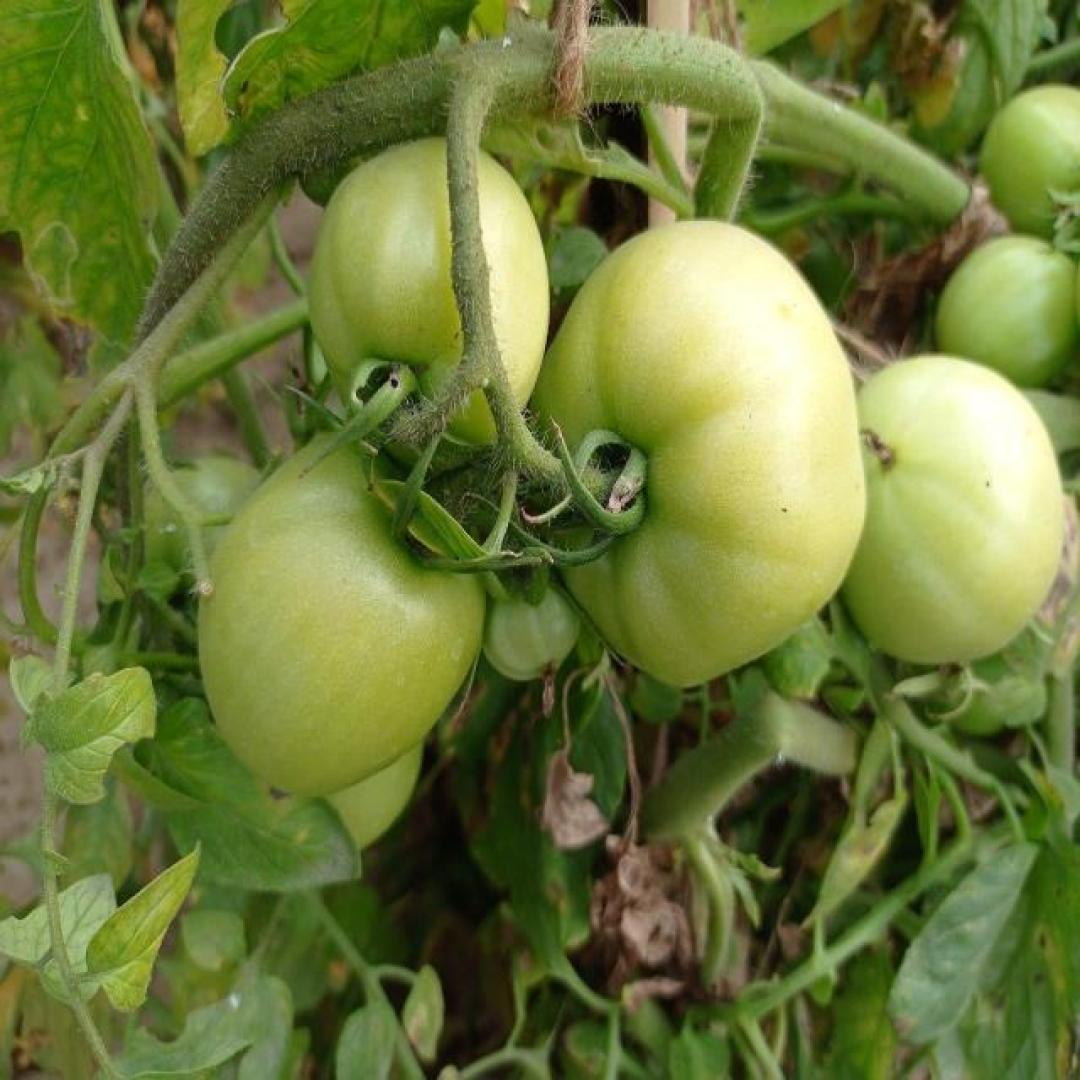mentah: (525, 218, 867, 686), (192, 432, 486, 800), (307, 132, 550, 469), (836, 363, 1066, 665)
